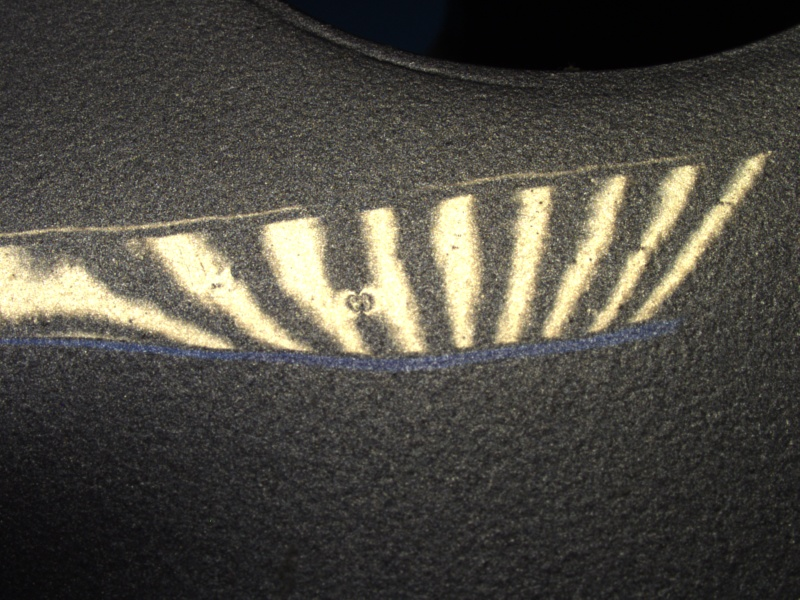bad: (336, 283, 383, 321)
